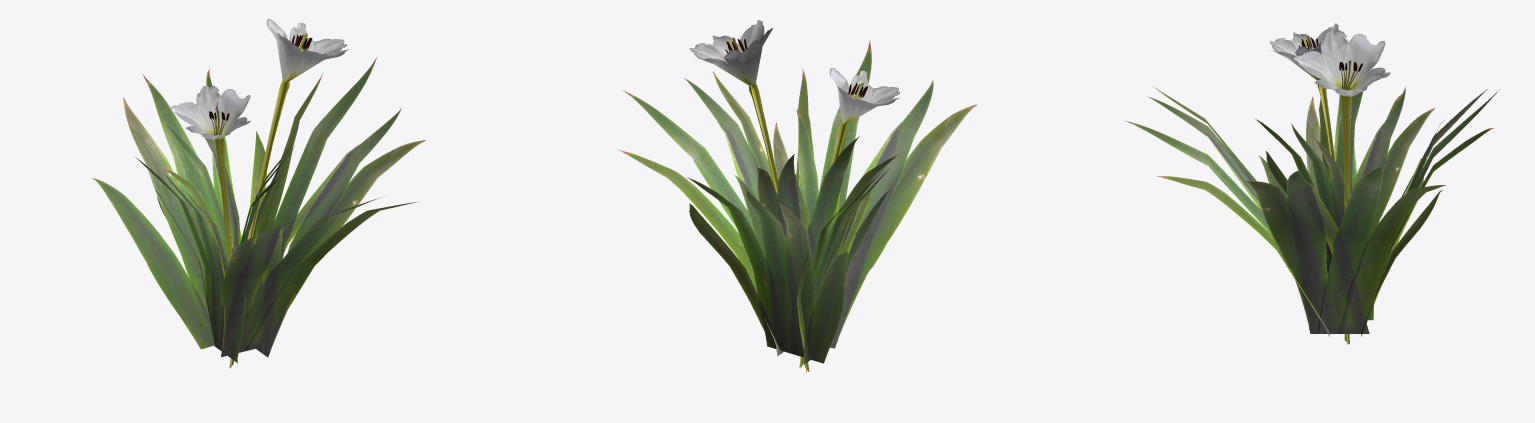
The model's file is Bush_Lilly00b.fbx.
The picture shows the model from 3 angles, left to right: view 1: azimuth 30°, elevation 25°; view 2: azimuth 150°, elevation 25°; view 3: azimuth 270°, elevation 25°; orthographic projection. The views are drawn at different scales.
Parts seen in each view (by area): view 1: Plane001, Plane004, Plane002, Plane003, Lilly00_Flower__1_, Lilly00_Flower, Plane002__1_, Plane001__1_; view 2: Plane001, Plane002, Plane004, Plane002__1_, Lilly00_Flower, Plane001__1_, Plane003, Lilly00_Flower__1_; view 3: Plane004, Lilly00_Flower, Plane002, Plane002__1_, Plane001__1_, Plane001, Plane003, Lilly00_Flower__1_.
Part boxes in pixels (x1,y1,x2,y2): Plane001: [92, 68, 266, 349]; Plane004: [252, 57, 425, 357]; Plane002: [221, 197, 420, 356]; Plane003: [134, 156, 246, 361]; Lilly00_Flower__1_: [170, 85, 250, 363]; Lilly00_Flower: [229, 19, 349, 368]; Plane002__1_: [160, 101, 239, 277]; Plane001__1_: [240, 144, 294, 243]; Plane001: [686, 177, 848, 363]; Plane002: [796, 40, 977, 348]; Plane004: [616, 71, 783, 356]; Plane002__1_: [757, 136, 899, 265]; Lilly00_Flower: [689, 20, 809, 373]; Plane001__1_: [734, 108, 871, 258]; Plane003: [797, 168, 892, 364]; Lilly00_Flower__1_: [799, 68, 900, 367]; Plane004: [1244, 164, 1446, 333]; Lilly00_Flower: [1293, 30, 1390, 344]; Plane002: [1124, 86, 1329, 336]; Plane002__1_: [1319, 87, 1435, 235]; Plane001__1_: [1254, 118, 1370, 274]; Plane001: [1361, 89, 1499, 336]; Plane003: [1258, 94, 1423, 320]; Lilly00_Flower__1_: [1269, 23, 1349, 344].
Size of the model in its own units: 143 by 137 by 157.
